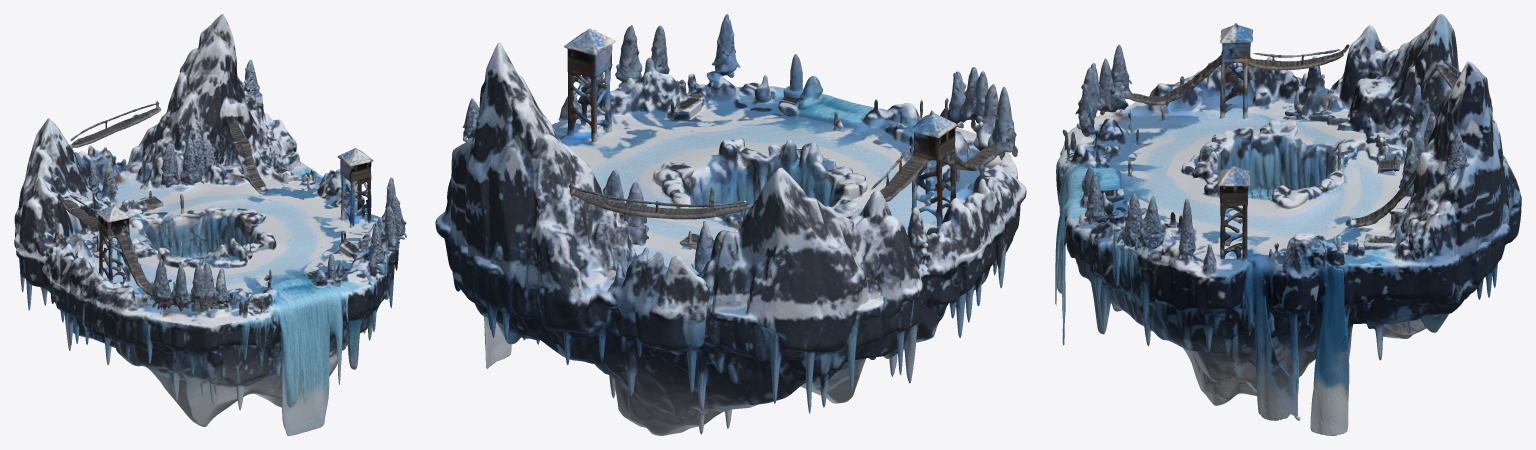
The model's file is snowy-peaks.glb.
3 views of the same model, side by side, from view 1: azimuth 30°, elevation 25°; view 2: azimuth 150°, elevation 25°; view 3: azimuth 270°, elevation 25° (orthographic). The views are drawn at different scales.
Visible parts, largest first — view 1: tripo_node_e46c16ca-5267-40d2-af10-6b4e8bce6fcd; view 2: tripo_node_e46c16ca-5267-40d2-af10-6b4e8bce6fcd; view 3: tripo_node_e46c16ca-5267-40d2-af10-6b4e8bce6fcd.
Part boxes in pixels (x1,y1,x2,y2): tripo_node_e46c16ca-5267-40d2-af10-6b4e8bce6fcd: (14, 14, 406, 435); tripo_node_e46c16ca-5267-40d2-af10-6b4e8bce6fcd: (435, 14, 1026, 435); tripo_node_e46c16ca-5267-40d2-af10-6b4e8bce6fcd: (1055, 14, 1521, 435).
Size of the model in its own units: 31423 by 28124 by 32763.
Materials: 1 (1 with a texture image).
